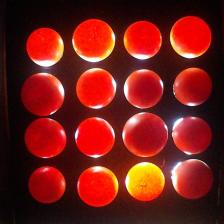fertile: (122, 112, 169, 157), (20, 72, 64, 116), (24, 117, 67, 159), (173, 159, 214, 199), (173, 67, 213, 107), (124, 69, 164, 109), (173, 116, 212, 155), (28, 166, 66, 204)
infertile: (72, 18, 116, 62), (76, 165, 119, 207), (170, 16, 211, 59), (75, 116, 115, 158), (76, 68, 116, 109), (125, 162, 165, 202), (123, 20, 162, 60), (26, 27, 64, 67)
